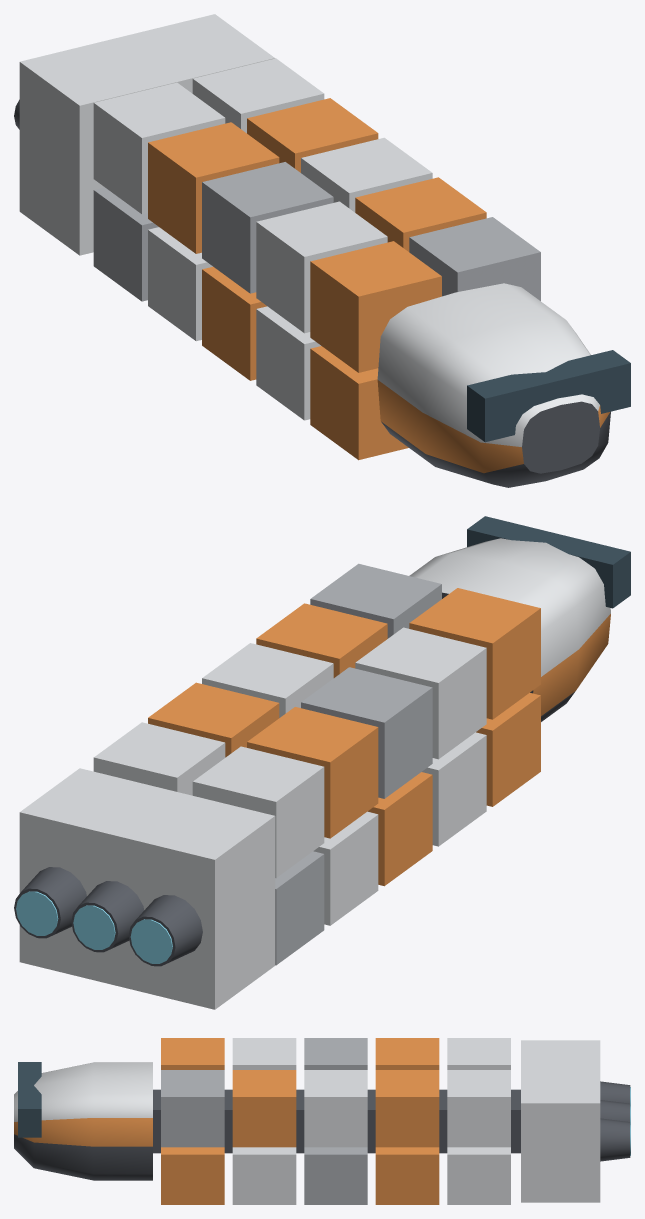
Rendered from ship_hauler.fbx.
3 views of the same model, one above another, from view 1: azimuth 30°, elevation 25°; view 2: azimuth 150°, elevation 25°; view 3: azimuth 270°, elevation 25° (orthographic). The views are drawn at different scales.
Visible parts, largest first — view 1: Body; view 2: Body; view 3: Body.
Boxes of the visible parts, box(x1,y1,x2,y2) form: Body: box(14, 14, 630, 487); Body: box(14, 516, 630, 1009); Body: box(14, 1038, 630, 1204).
Size of the model in its own units: 7.5 by 6 by 31.04.
